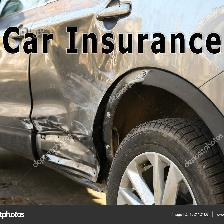dent: (19, 20, 155, 201)
